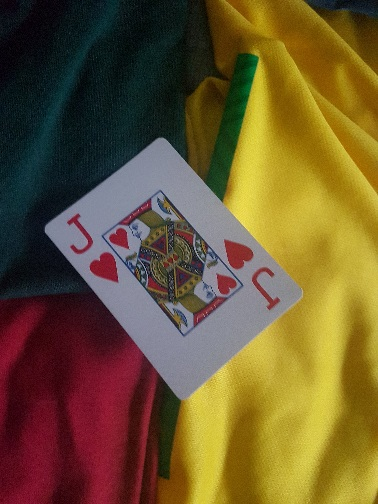jack: (43, 133, 301, 400)
